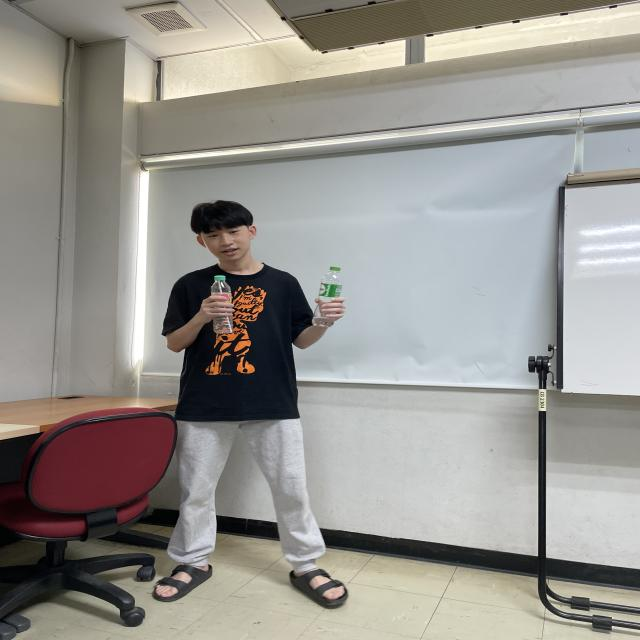bottle: (311, 265, 344, 329), (210, 274, 235, 335)
